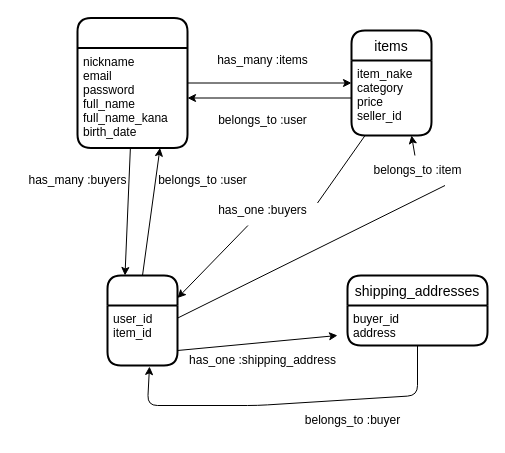
Image size: 505x453. Some labels were removed from this diagram. The box of each missing label's shape, as (x1, y1, x2, y2) in pixels:
buyers: (106, 274, 178, 366)
users: (76, 16, 188, 148)
